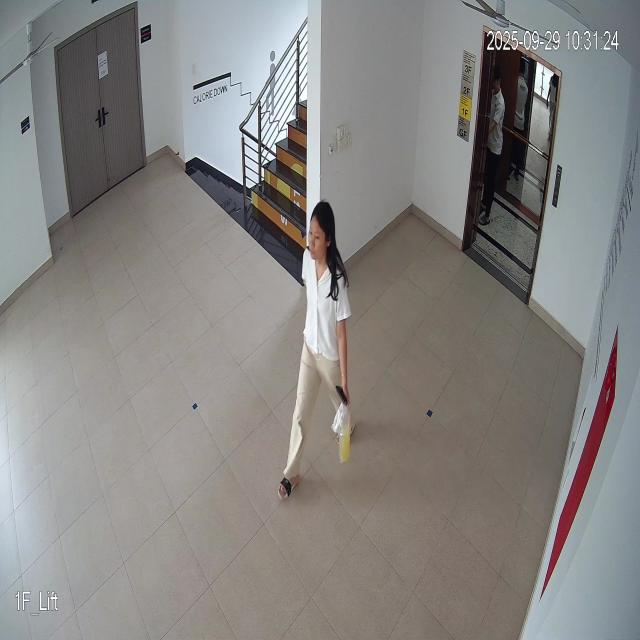face: (304, 192, 338, 266)
